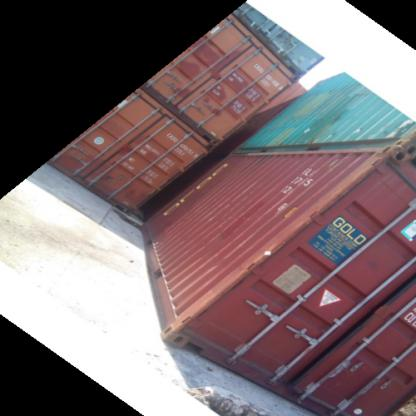Damage: (262, 154, 374, 258)
